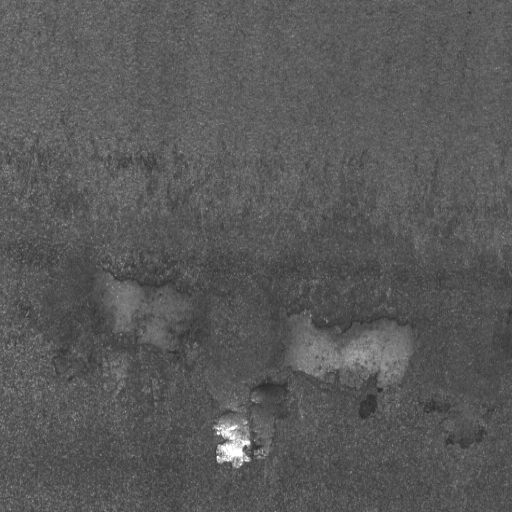qiaopi: (213, 380, 291, 474)
